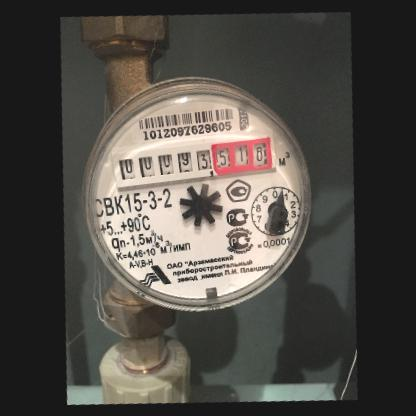digital_screen: (108, 139, 213, 192)
